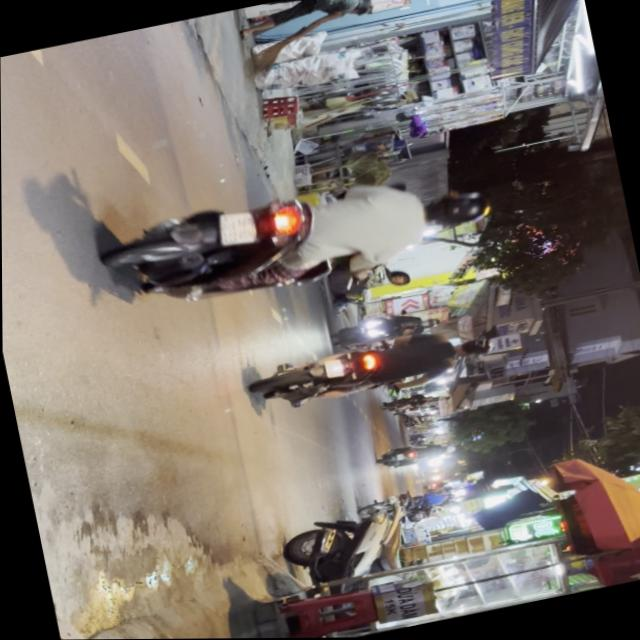helmet: (423, 184, 492, 231), (455, 333, 494, 358)
licenseplate: (100, 150, 499, 324), (247, 315, 499, 418)
nohelmet: (219, 208, 258, 246), (324, 357, 345, 378)
